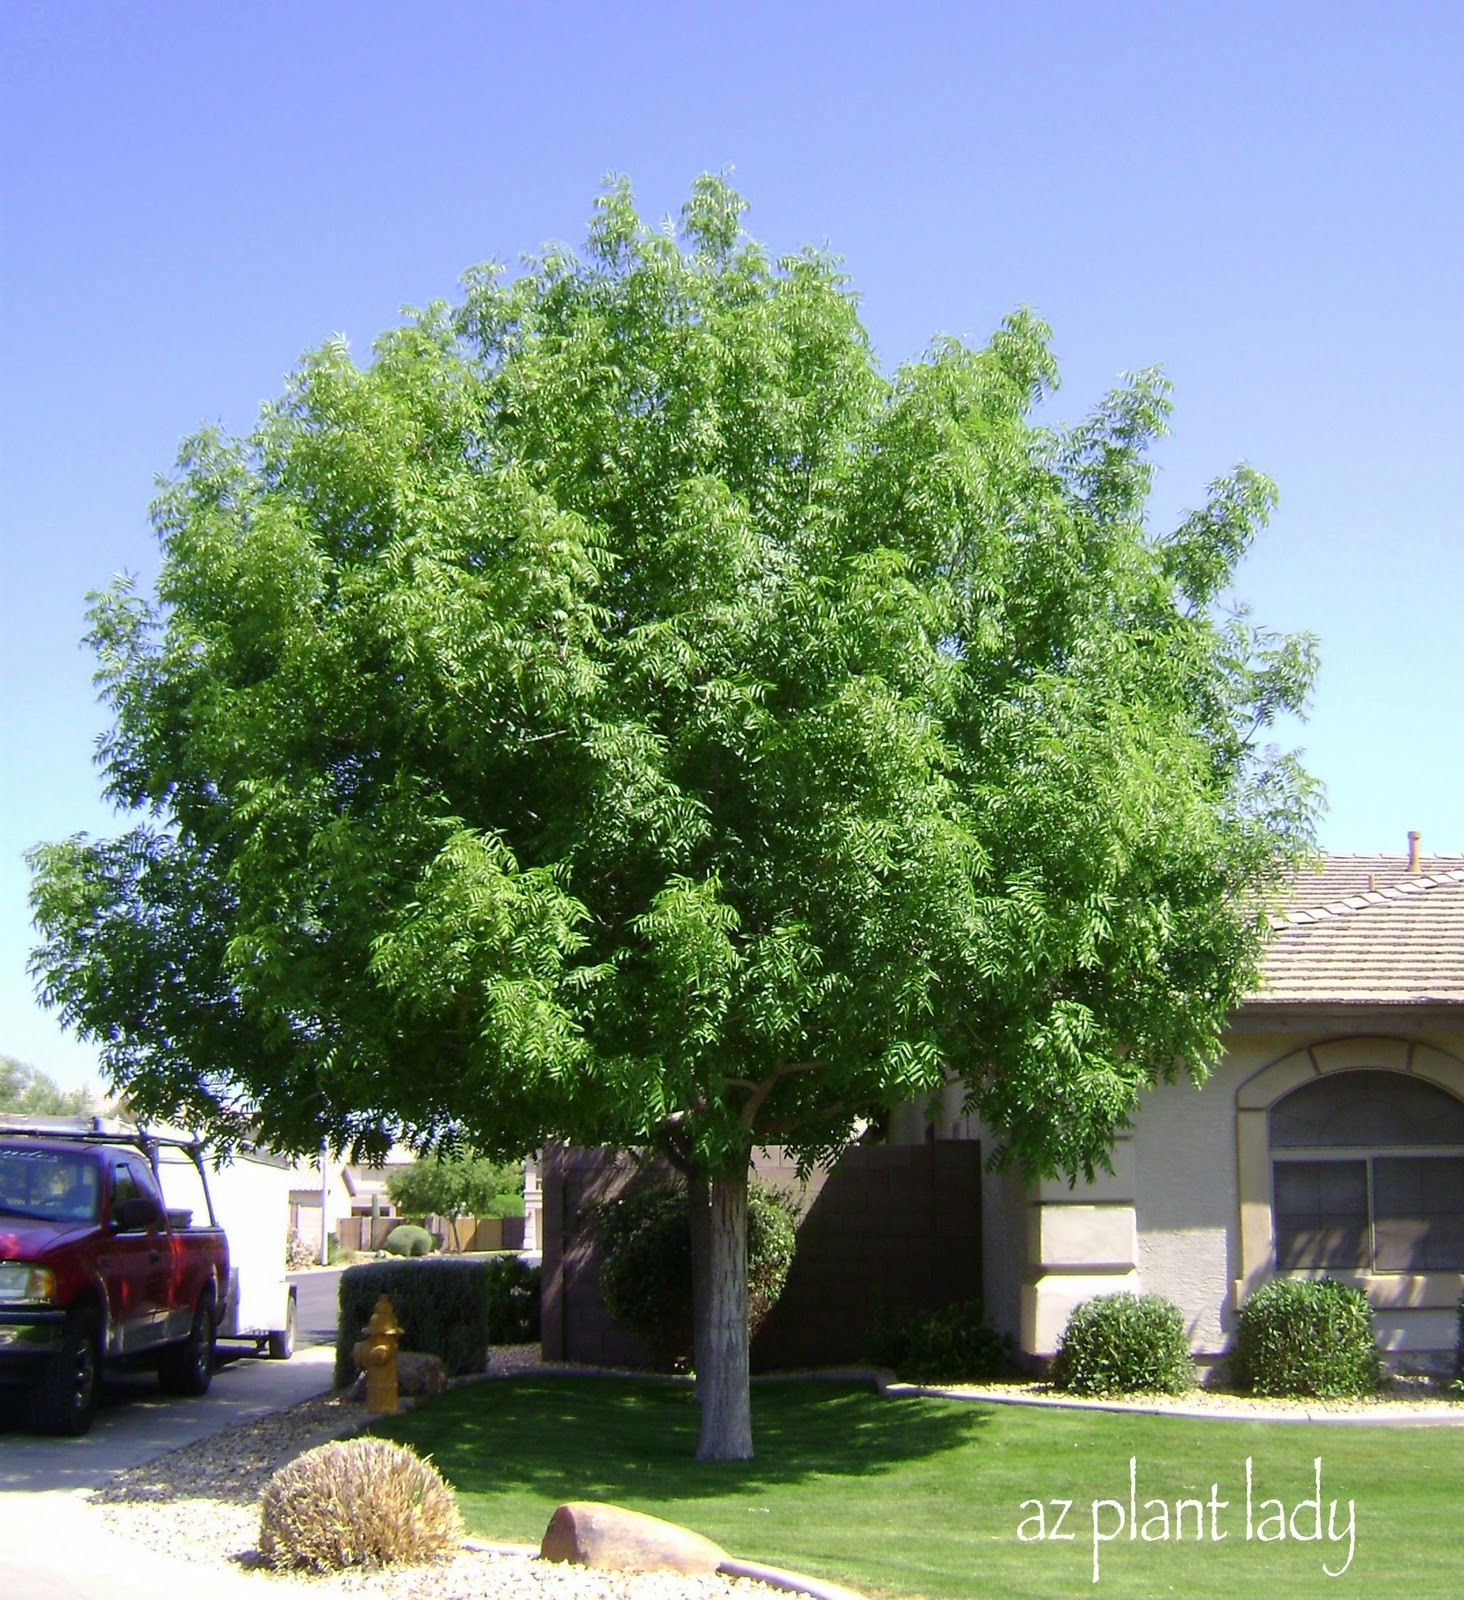tree: (36, 178, 1266, 1451)
